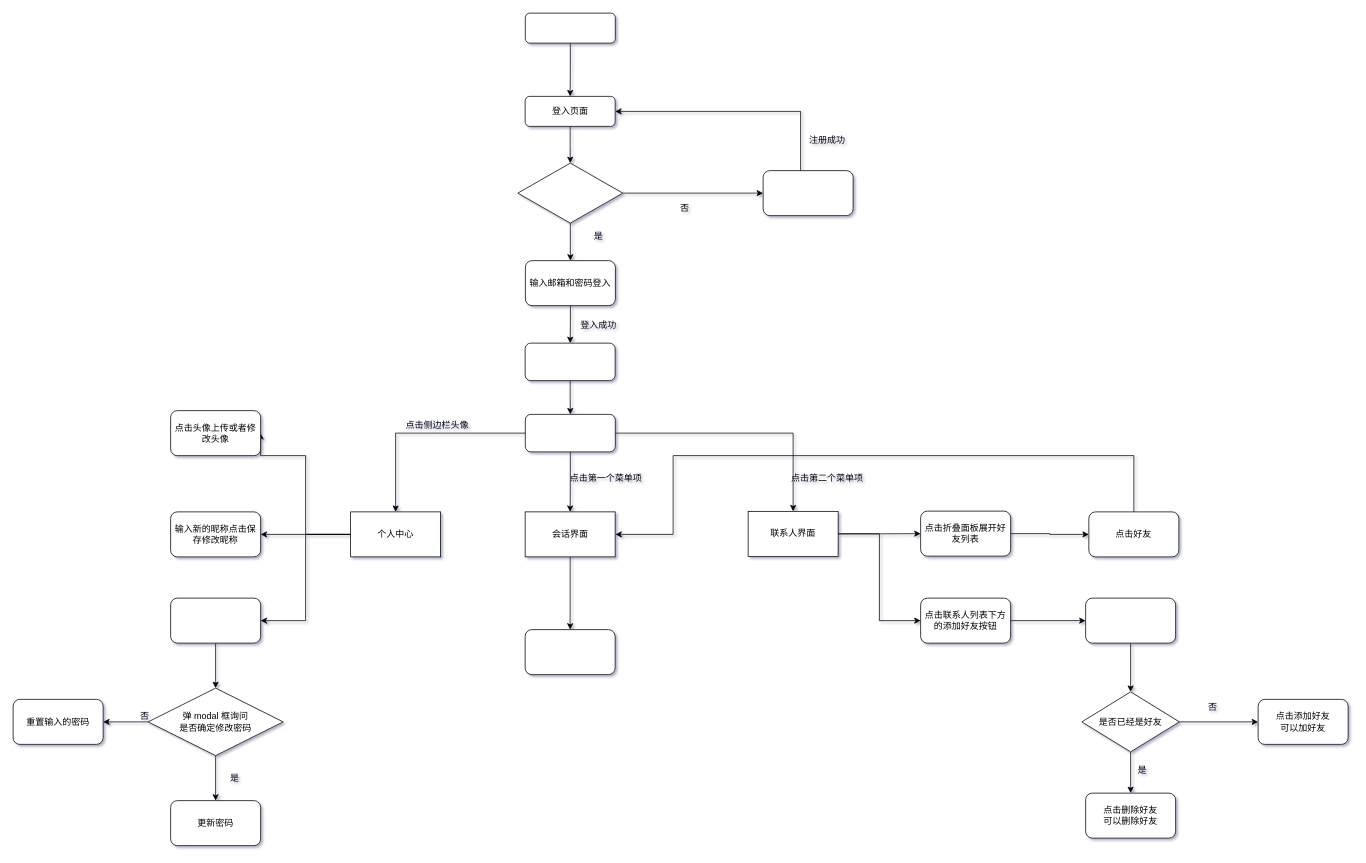
The diagram is 1366 pixels wide and 863 high, and some of its shapes have lost their labels. Each missing label, with the centre of its shape:
主界面: point (569, 361)
打开应用: point (570, 27)
是否已注册: point (570, 192)
点击会话项打开聊天窗口: point (569, 652)
点击注册链接跳转注册页面进行注册: point (807, 193)
输入新的密码点击保存: point (215, 620)
输入邮箱搜索好友: point (1130, 620)
通过侧边栏导航: point (570, 433)
